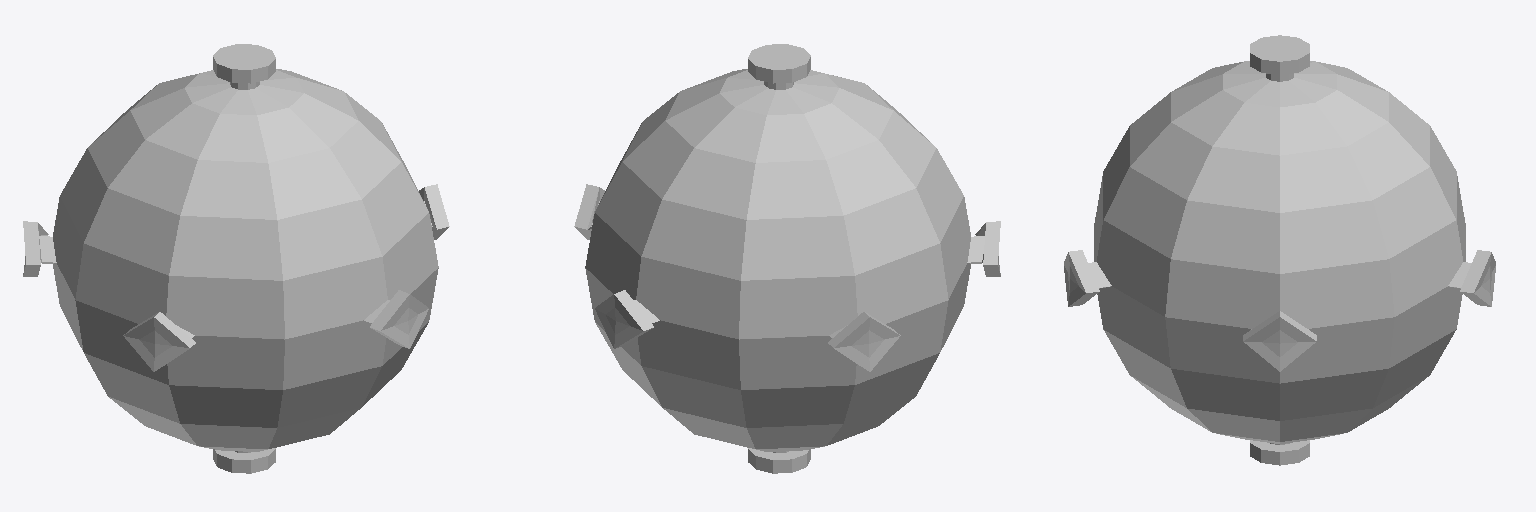
The model's file is Melee1.obj.
The picture shows the model from 3 angles: view 1: azimuth 30°, elevation 25°; view 2: azimuth 150°, elevation 25°; view 3: azimuth 270°, elevation 25°; orthographic projection.
Parts seen in each view (by area): view 1: Drone_Basic_Body1:pSphere1; view 2: Drone_Basic_Body1:pSphere1; view 3: Drone_Basic_Body1:pSphere1.
Part boxes in pixels (bbox=[...]): Drone_Basic_Body1:pSphere1: bbox=[23, 44, 449, 473]; Drone_Basic_Body1:pSphere1: bbox=[574, 44, 1000, 473]; Drone_Basic_Body1:pSphere1: bbox=[1064, 35, 1495, 465].
Bounding box in the file's own units: 63.68 × 67.71 × 65.85.